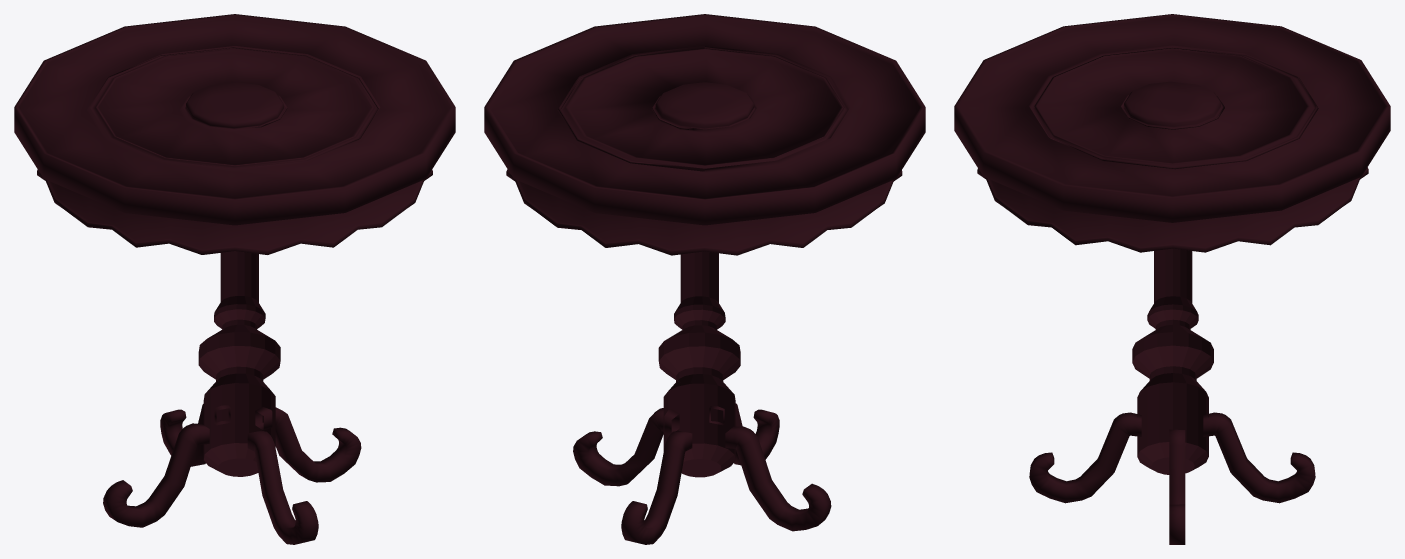
The model's file is Rune table.fbx.
3 renders of one model, left to right at view 1: azimuth 30°, elevation 25°; view 2: azimuth 150°, elevation 25°; view 3: azimuth 270°, elevation 25°, orthographic.
Parts seen in each view (by area): view 1: Circle.006; view 2: Circle.006; view 3: Circle.006.
Boxes of the visible parts, x1,y1,x2,y2 form: Circle.006: [14, 14, 455, 544]; Circle.006: [484, 14, 925, 544]; Circle.006: [954, 14, 1390, 544].
Size of the model in its own units: 270 by 271 by 270.
